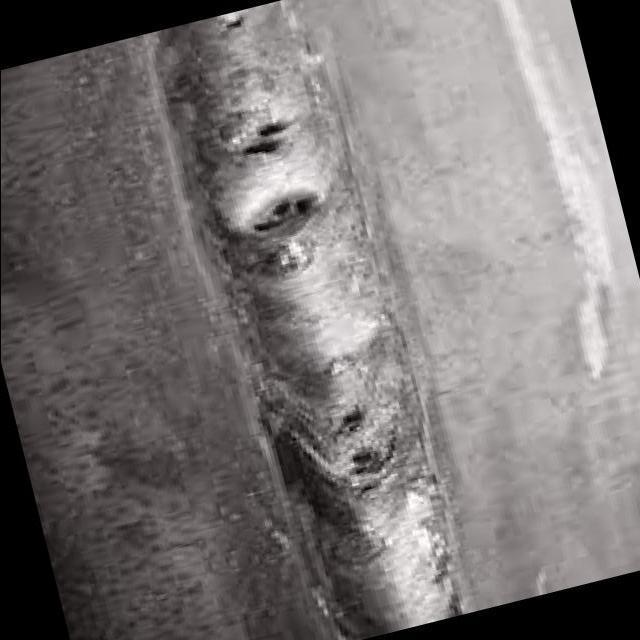defect: (240, 185, 325, 242), (232, 119, 299, 164), (345, 445, 397, 502), (332, 405, 382, 447), (219, 13, 254, 38)
